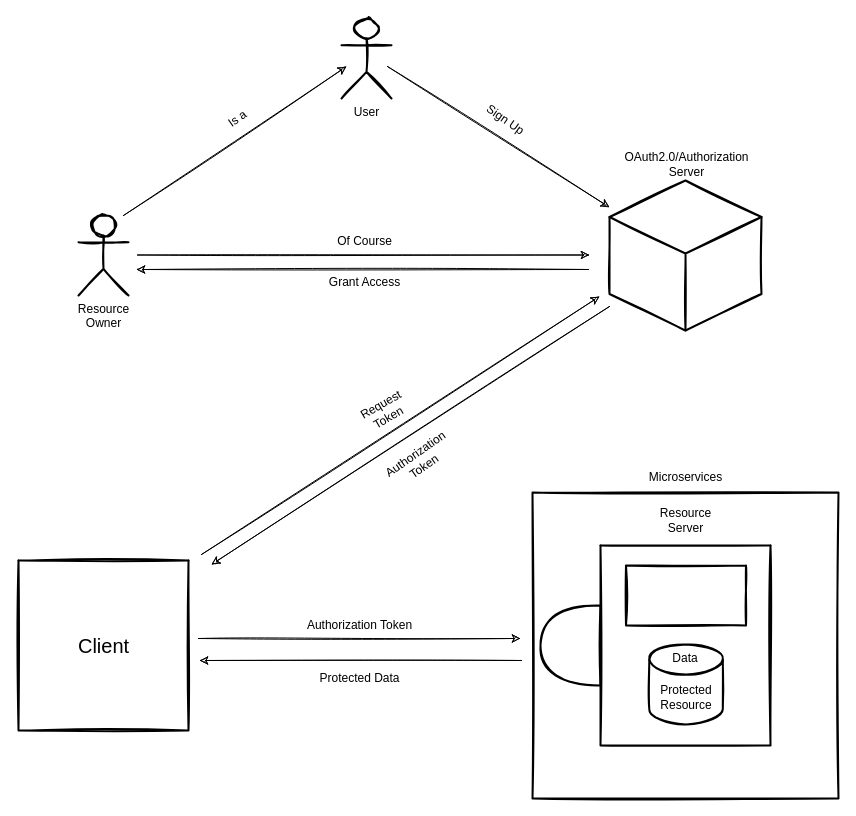
Image size: 856x816. Some labels were removed from this diagram. Here are the shapes that lost their labels. From the top down, the centre of each, then its label:
the point at 685,595: Validate Authorization Token
the point at 570,645: API REST
